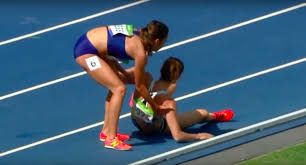fall: (127, 52, 238, 144)
